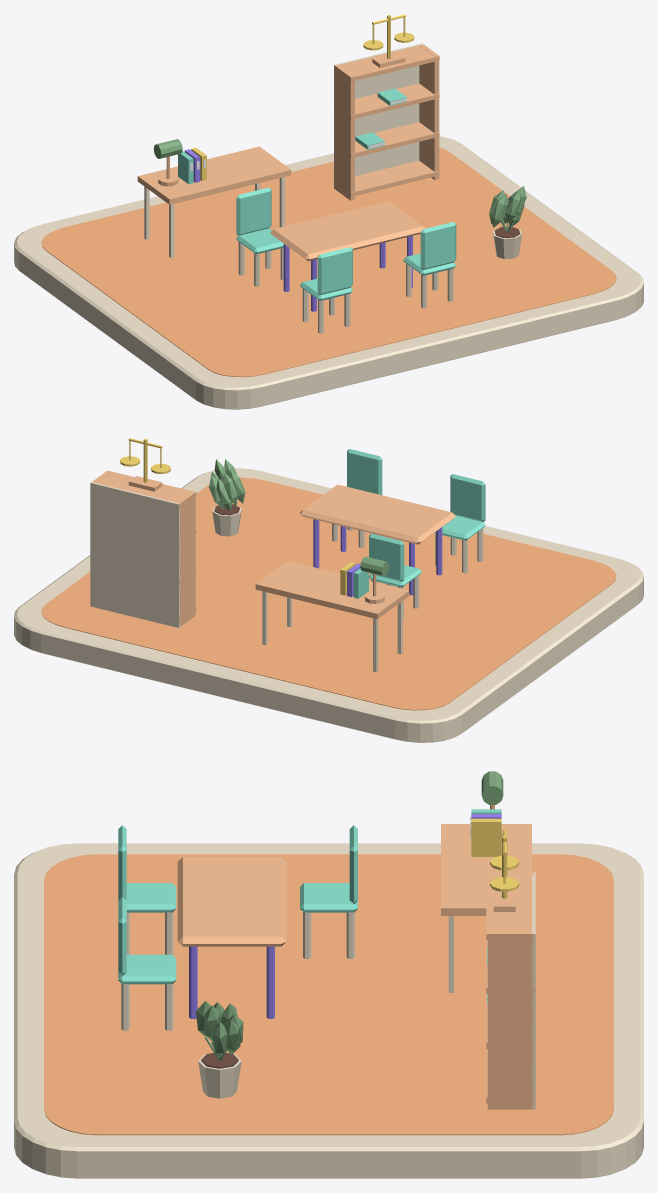
3 renders of one model, top to bottom at view 1: azimuth 30°, elevation 25°; view 2: azimuth 150°, elevation 25°; view 3: azimuth 270°, elevation 25°, orthographic. The views are drawn at different scales.
Parts seen in each view (by area): view 1: COM-02 Floor Surface, COM-01 Rounded Base Direct, Top, Rounded table top, Back, Side, Side.001, Pot, Shelf, Backrest.001, Backrest, Backrest.002 (+4 smaller); view 2: COM-02 Floor Surface, COM-01 Rounded Base Direct, Back, Top, Rounded table top, Pot, Side, Backrest, Backrest.001, Backrest.002, Shelf.003, Seat (+1 smaller); view 3: COM-02 Floor Surface, COM-01 Rounded Base Direct, Rounded table top, Side.001, Top, Pot, Shelf.003, Seat.001, Seat.002, Seat, File.002, Back (+6 smaller).
Boxes of the visible parts, box(x1,y1,x2,y2) form: COM-02 Floor Surface: box(41, 147, 616, 377); COM-01 Rounded Base Direct: box(14, 136, 643, 409); Top: box(137, 146, 291, 257); Rounded table top: box(270, 201, 425, 261); Back: box(334, 43, 422, 188); Side: box(334, 64, 354, 200); Side.001: box(419, 44, 439, 179); Pot: box(489, 186, 526, 259); Shelf: box(334, 160, 439, 196); Backrest.001: box(420, 222, 456, 269); Backrest: box(317, 247, 352, 295); Backrest.002: box(236, 187, 271, 235); COM-02 Floor Surface: box(41, 477, 616, 710); COM-01 Rounded Base Direct: box(14, 468, 643, 742); Back: box(90, 482, 180, 627); Top: box(255, 561, 409, 672); Rounded table top: box(300, 484, 455, 544); Pot: box(209, 459, 245, 536); Side: box(175, 491, 195, 626); Backrest: box(450, 474, 485, 521); Backrest.001: box(347, 449, 382, 495); Backrest.002: box(369, 533, 404, 581); Shelf.003: box(96, 470, 196, 508); Seat: box(434, 515, 485, 540); COM-02 Floor Surface: box(44, 854, 613, 1135); COM-01 Rounded Base Direct: box(14, 843, 643, 1178); Rounded table top: box(177, 857, 286, 946); Side.001: box(487, 930, 533, 1109); Top: box(441, 824, 531, 992); Pot: box(196, 1001, 243, 1098); Shelf.003: box(486, 872, 534, 940); Seat.001: box(118, 954, 176, 984); Seat.002: box(300, 883, 357, 912); Seat: box(126, 883, 176, 912); File.002: box(471, 818, 501, 856); Back: box(532, 872, 535, 1109).
Size of the model in its own units: 6 by 2.5 by 5.2.
1 material, 1 textured.
